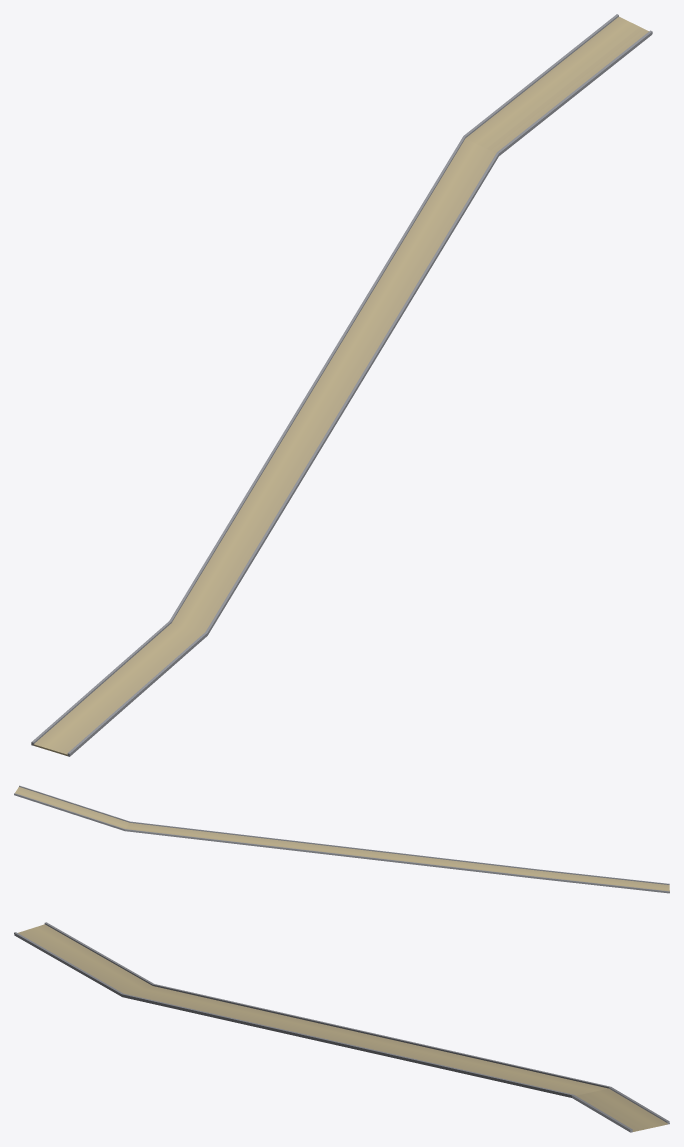
File: sidewalk_11.fbx
The picture shows the model from 3 angles, top to bottom: view 1: azimuth 30°, elevation 25°; view 2: azimuth 150°, elevation 25°; view 3: azimuth 270°, elevation 25°; orthographic projection. The views are drawn at different scales.
Parts seen in each view (by area): view 1: sidewalk_10; view 2: sidewalk_10; view 3: sidewalk_10.
Part boxes in pixels (x1,y1,x2,y2): sidewalk_10: (31, 14, 652, 756); sidewalk_10: (14, 785, 669, 893); sidewalk_10: (14, 922, 669, 1132).
Size of the model in its own units: 8.35 by 1.96 by 5.75.
1 material, 1 textured.
